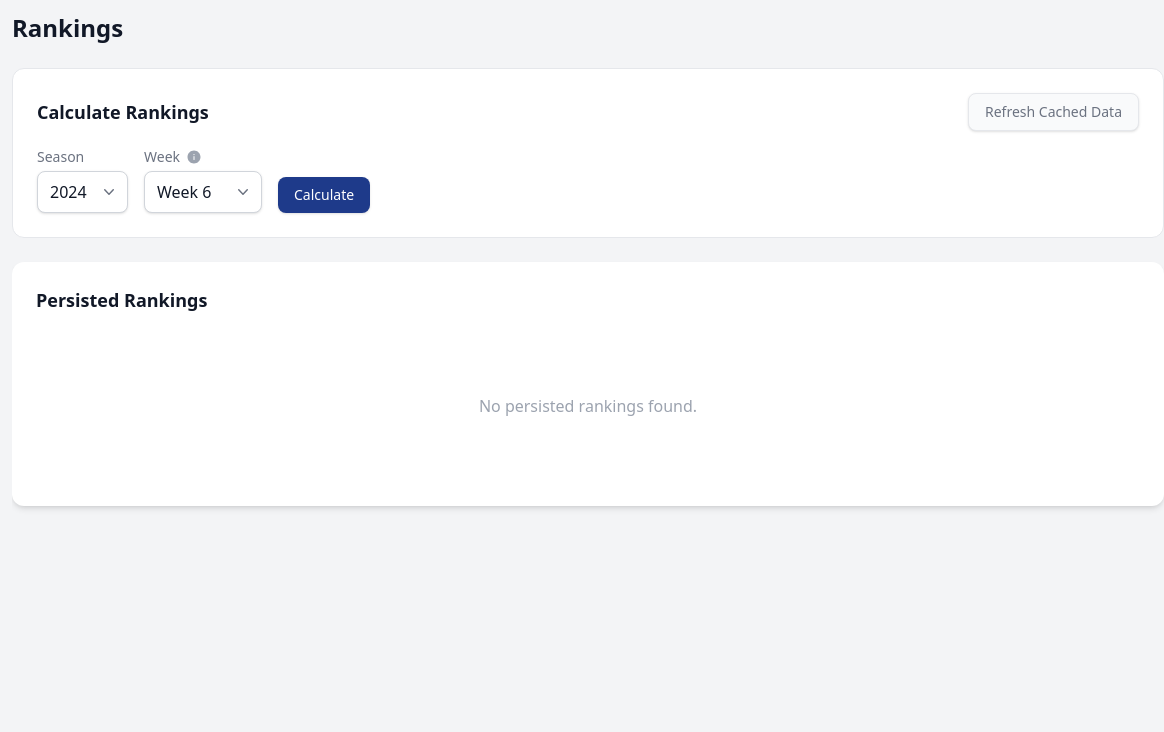
Scenario: RankingsSnapshotsPage › shows error when calculation fails
Click the button "Calculate": x=324, y=195 [278, 177, 370, 213]
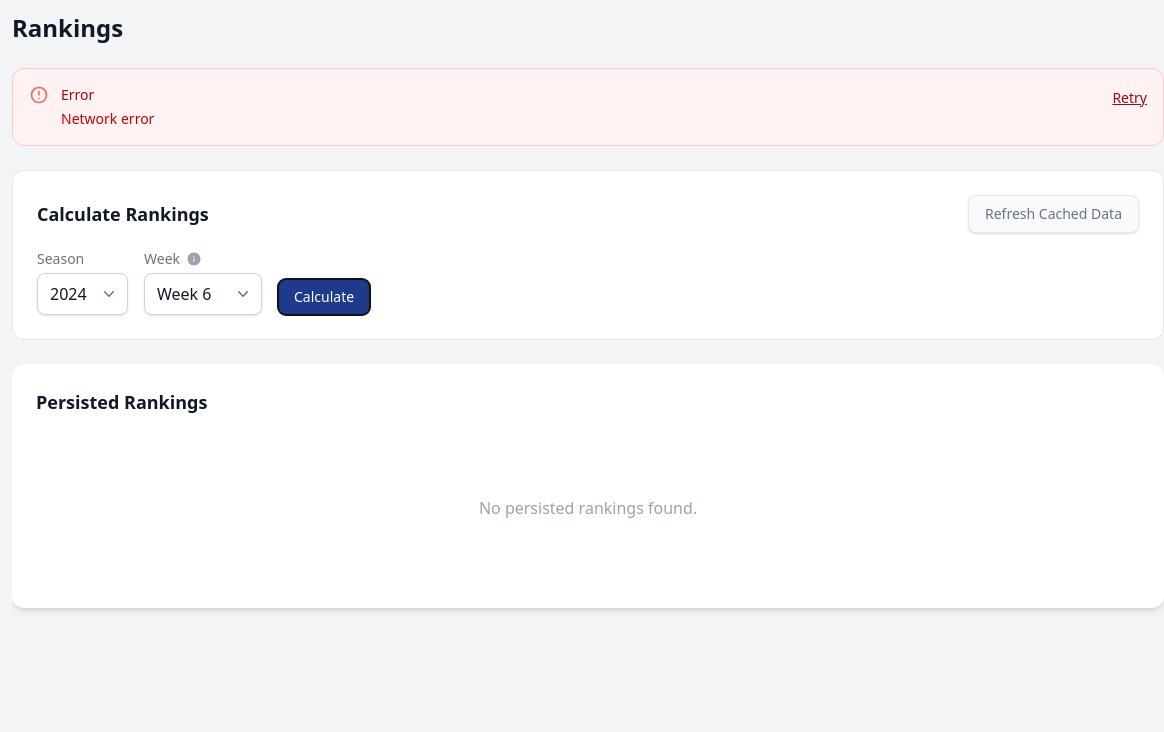
expect the text "Network error" is shown: met, box [61, 109, 154, 128]
